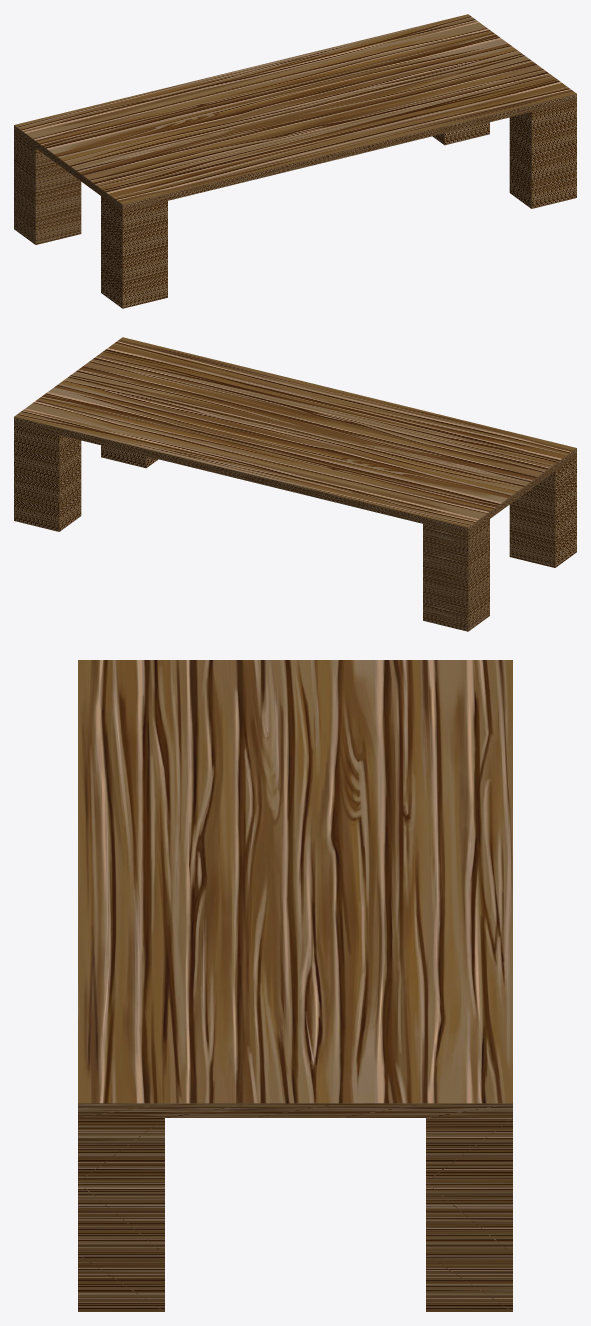
File: dining room table.FBX
The picture shows the model from 3 angles, top to bottom: view 1: azimuth 30°, elevation 25°; view 2: azimuth 150°, elevation 25°; view 3: azimuth 270°, elevation 25°; orthographic projection. The views are drawn at different scales.
Parts seen in each view (by area): view 1: Dining room table; view 2: Dining room table; view 3: Dining room table.
Part boxes in pixels (<box>): Dining room table: <box>14,14,576,308</box>; Dining room table: <box>14,337,576,631</box>; Dining room table: <box>78,660,512,1311</box>.
Bounding box in the file's own units: 589 × 129 × 244.
Materials: 1 (1 with a texture image).
